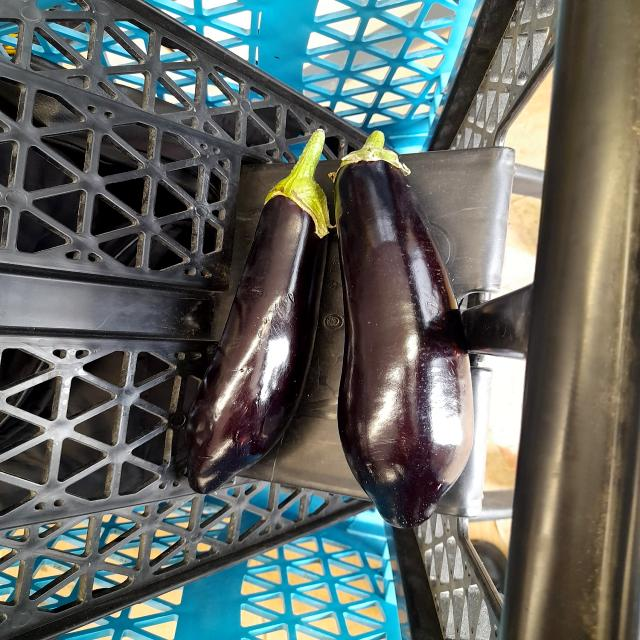eggplant: (178, 125, 352, 497), (326, 115, 478, 531)
